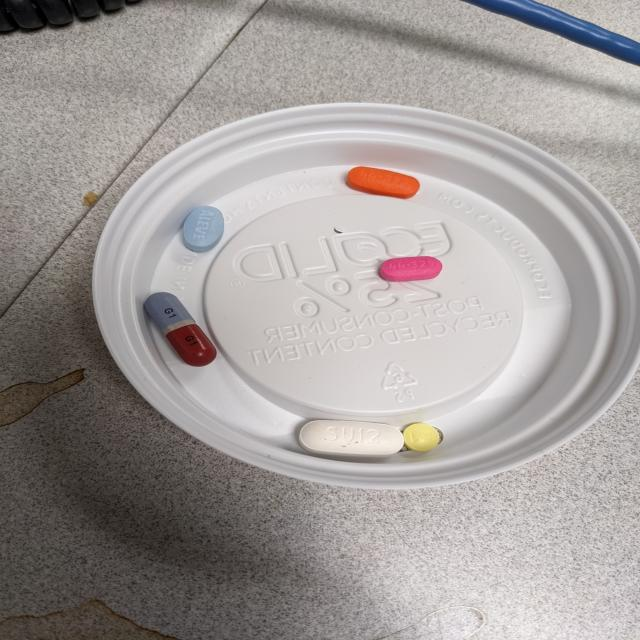non-organic waste: (142, 291, 218, 368), (297, 418, 405, 459), (346, 165, 421, 200), (182, 204, 225, 254), (379, 255, 443, 282), (401, 422, 441, 453)
